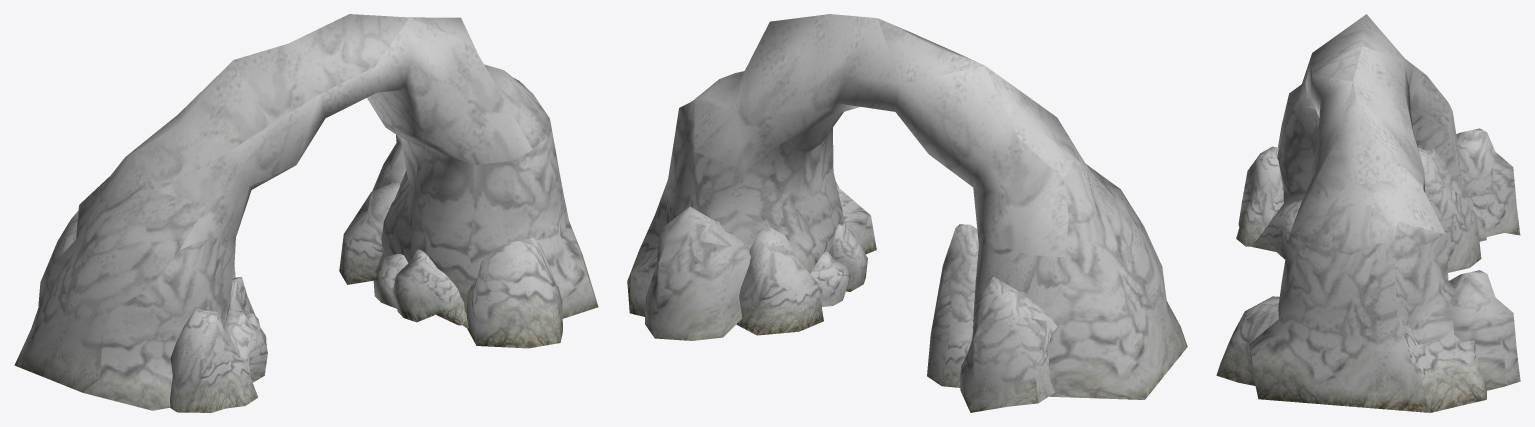
The model's file is general_obj_bigstonegate01.fbx.
The picture shows the model from 3 angles, left to right: view 1: azimuth 30°, elevation 25°; view 2: azimuth 150°, elevation 25°; view 3: azimuth 270°, elevation 25°; orthographic projection. The views are drawn at different scales.
Visible parts, largest first — view 1: Object03; view 2: Object03; view 3: Object03.
Part boxes in pixels (x1,y1,x2,y2): Object03: (14, 14, 598, 412); Object03: (627, 14, 1187, 412); Object03: (1216, 14, 1520, 412).
Bounding box in the file's own units: 62.52 × 34.26 × 34.63.
